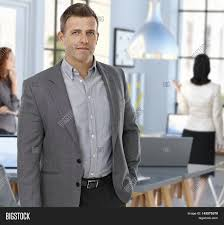white_male: (61, 17, 103, 70)
